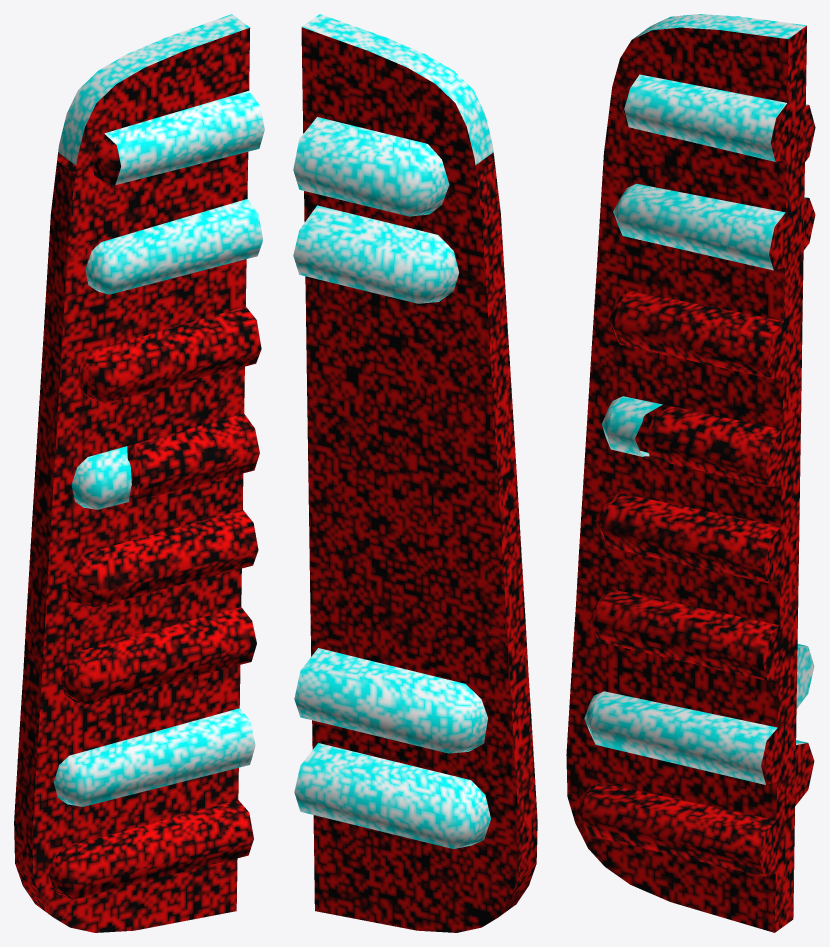
Rendered from SM_Raxasia_Shield_R_KMH.fbx.
3 views of the same model, side by side, from view 1: azimuth 30°, elevation 25°; view 2: azimuth 150°, elevation 25°; view 3: azimuth 330°, elevation 25° (orthographic).
Visible parts, largest first — view 1: SM_Raxasia_Shield_R_KMH; view 2: SM_Raxasia_Shield_R_KMH; view 3: SM_Raxasia_Shield_R_KMH.
Part boxes in pixels (bbox=[...]): SM_Raxasia_Shield_R_KMH: bbox=[14, 14, 264, 932]; SM_Raxasia_Shield_R_KMH: bbox=[293, 14, 537, 932]; SM_Raxasia_Shield_R_KMH: bbox=[566, 14, 815, 932].
Bounding box in the file's own units: 21.64 × 83.56 × 10.02.
